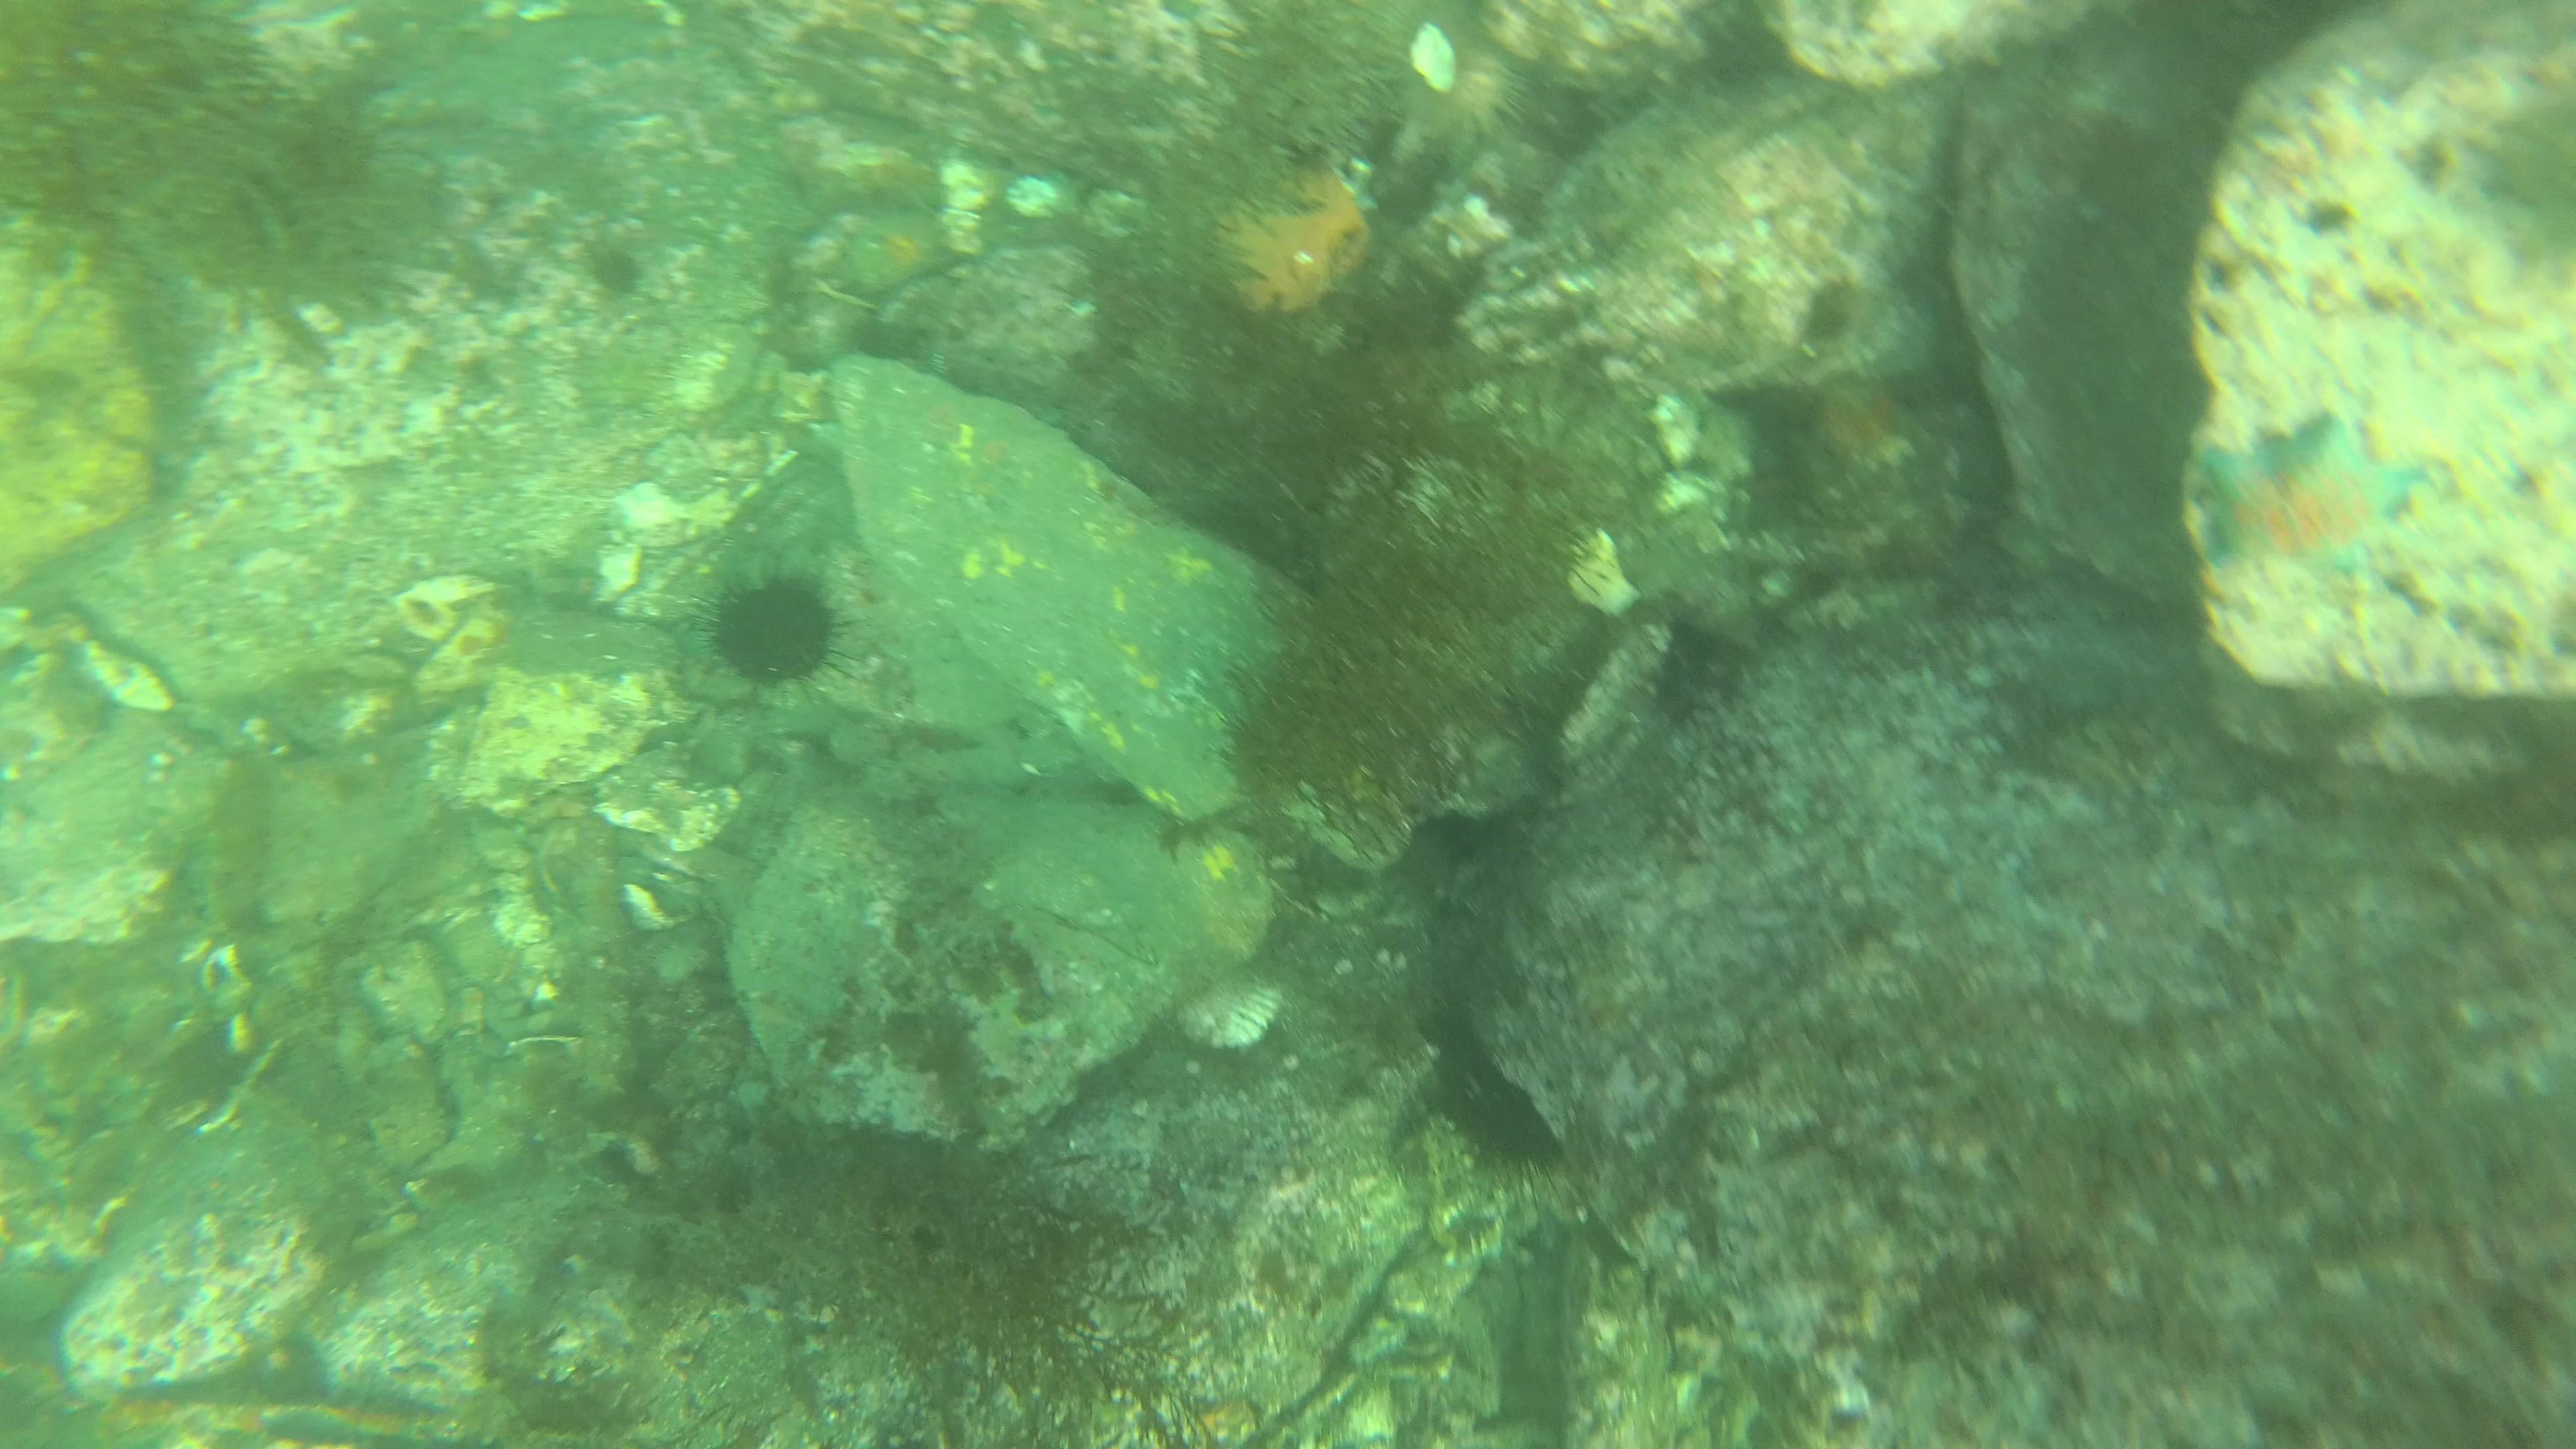echinus: (708, 580, 840, 694), (1437, 1072, 1566, 1185)
starfish: (2201, 419, 2417, 586)
